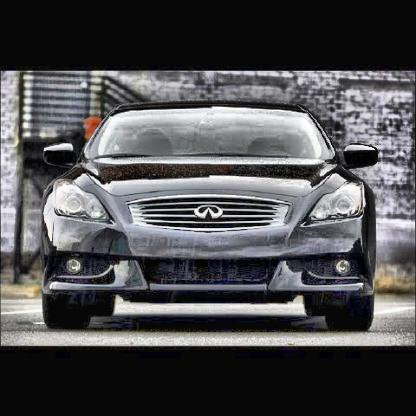Infiniti G Coupe IPL 2012: (41, 104, 380, 334)
